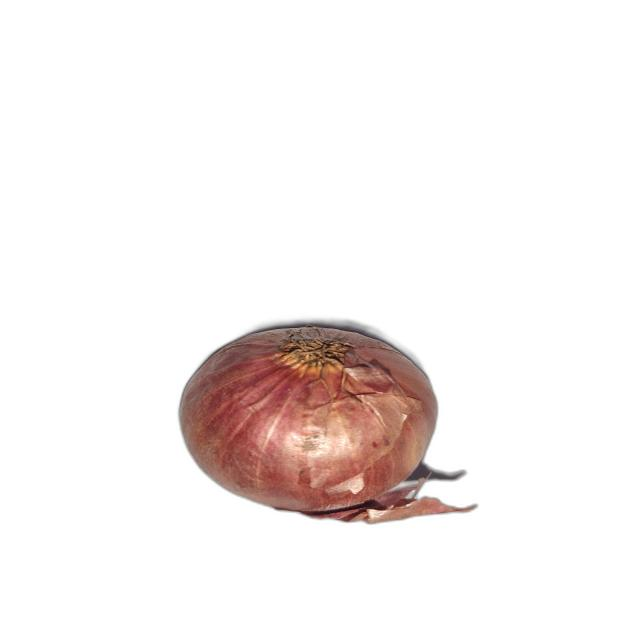onion: (178, 324, 440, 514)
